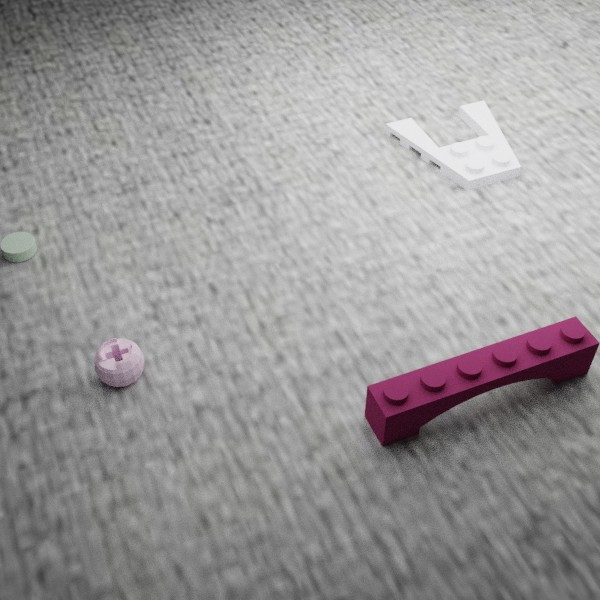lego: (364, 316, 599, 447), (385, 100, 521, 190), (94, 338, 144, 387), (0, 231, 36, 262)
